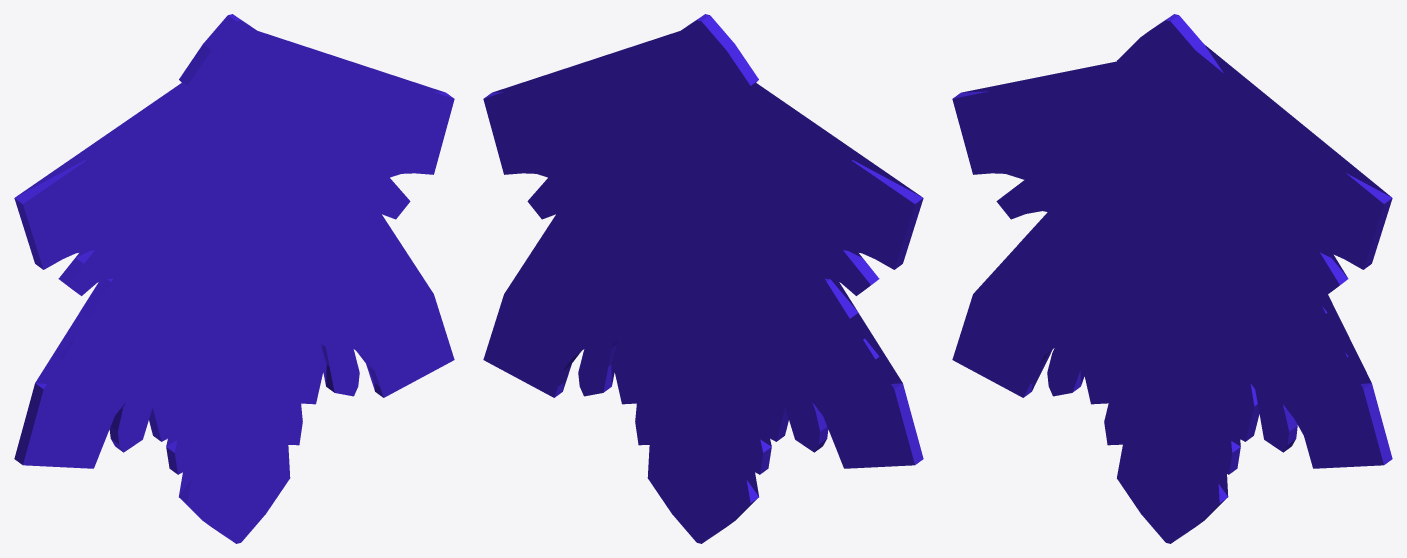
File: SnowFlake2.fbx
3 renders of one model, left to right at view 1: azimuth 30°, elevation 25°; view 2: azimuth 150°, elevation 25°; view 3: azimuth 330°, elevation 25°, orthographic.
Visible parts, largest first — view 1: Plane.011; view 2: Plane.011; view 3: Plane.011.
Boxes of the visible parts, box(x1,y1,x2,y2) form: Plane.011: box(14, 14, 454, 543); Plane.011: box(483, 14, 923, 543); Plane.011: box(952, 14, 1392, 543).
Size of the model in its own units: 13.01 by 15.04 by 0.4467.
